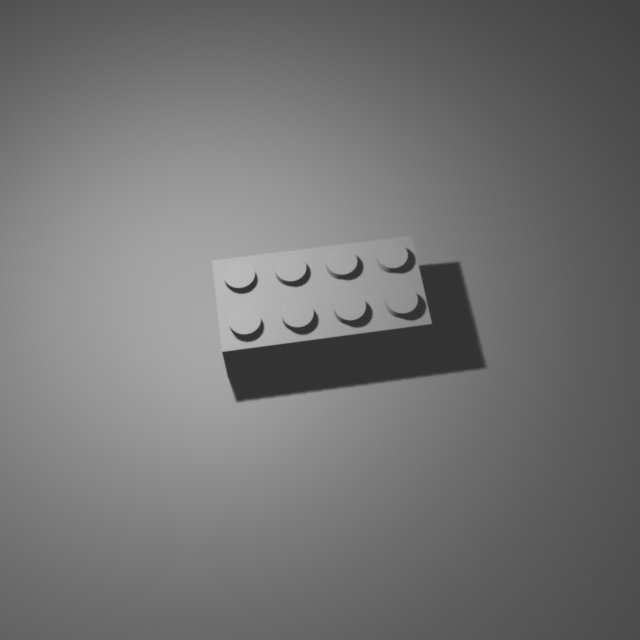lego_2x4: (211, 230, 433, 377)
